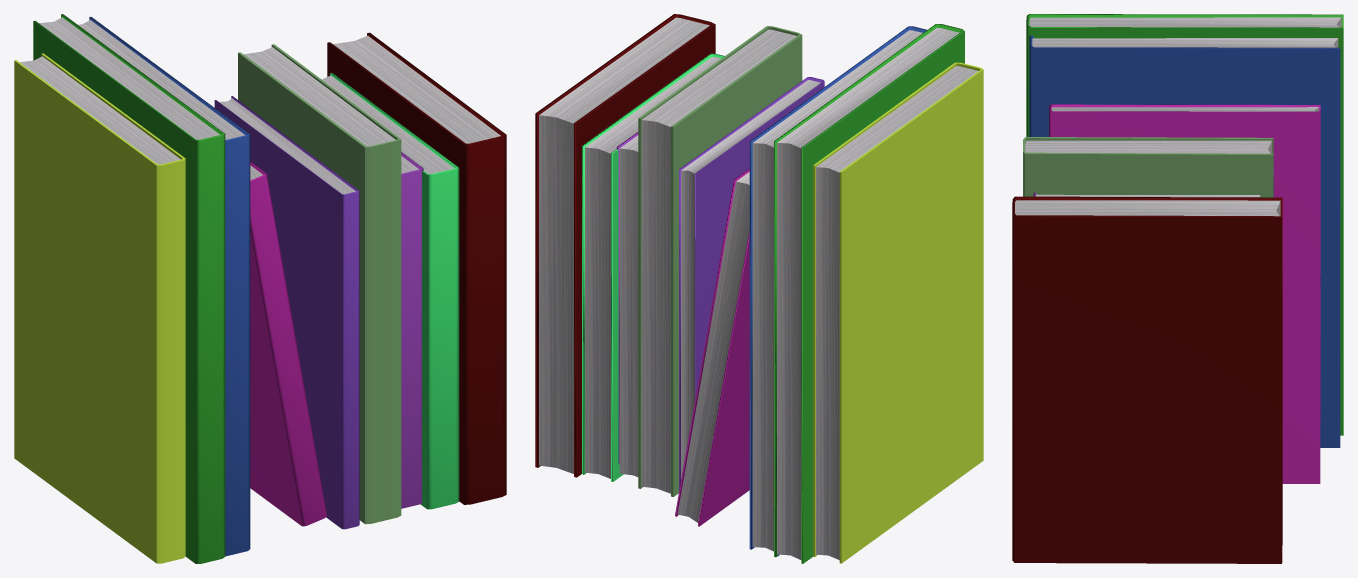
File: Books_1.fbx
3 renders of one model, left to right at view 1: azimuth 30°, elevation 25°; view 2: azimuth 150°, elevation 25°; view 3: azimuth 270°, elevation 25°, orthographic. The views are drawn at different scales.
Parts seen in each view (by area): view 1: Books_1; view 2: Books_1; view 3: Books_1.
Part boxes in pixels (x1=…): Books_1: x1=14, y1=14, x2=506, y2=563; Books_1: x1=535, y1=14, x2=983, y2=563; Books_1: x1=1012, y1=14, x2=1343, y2=563.
Size of the model in its own units: 663 by 800 by 590.
